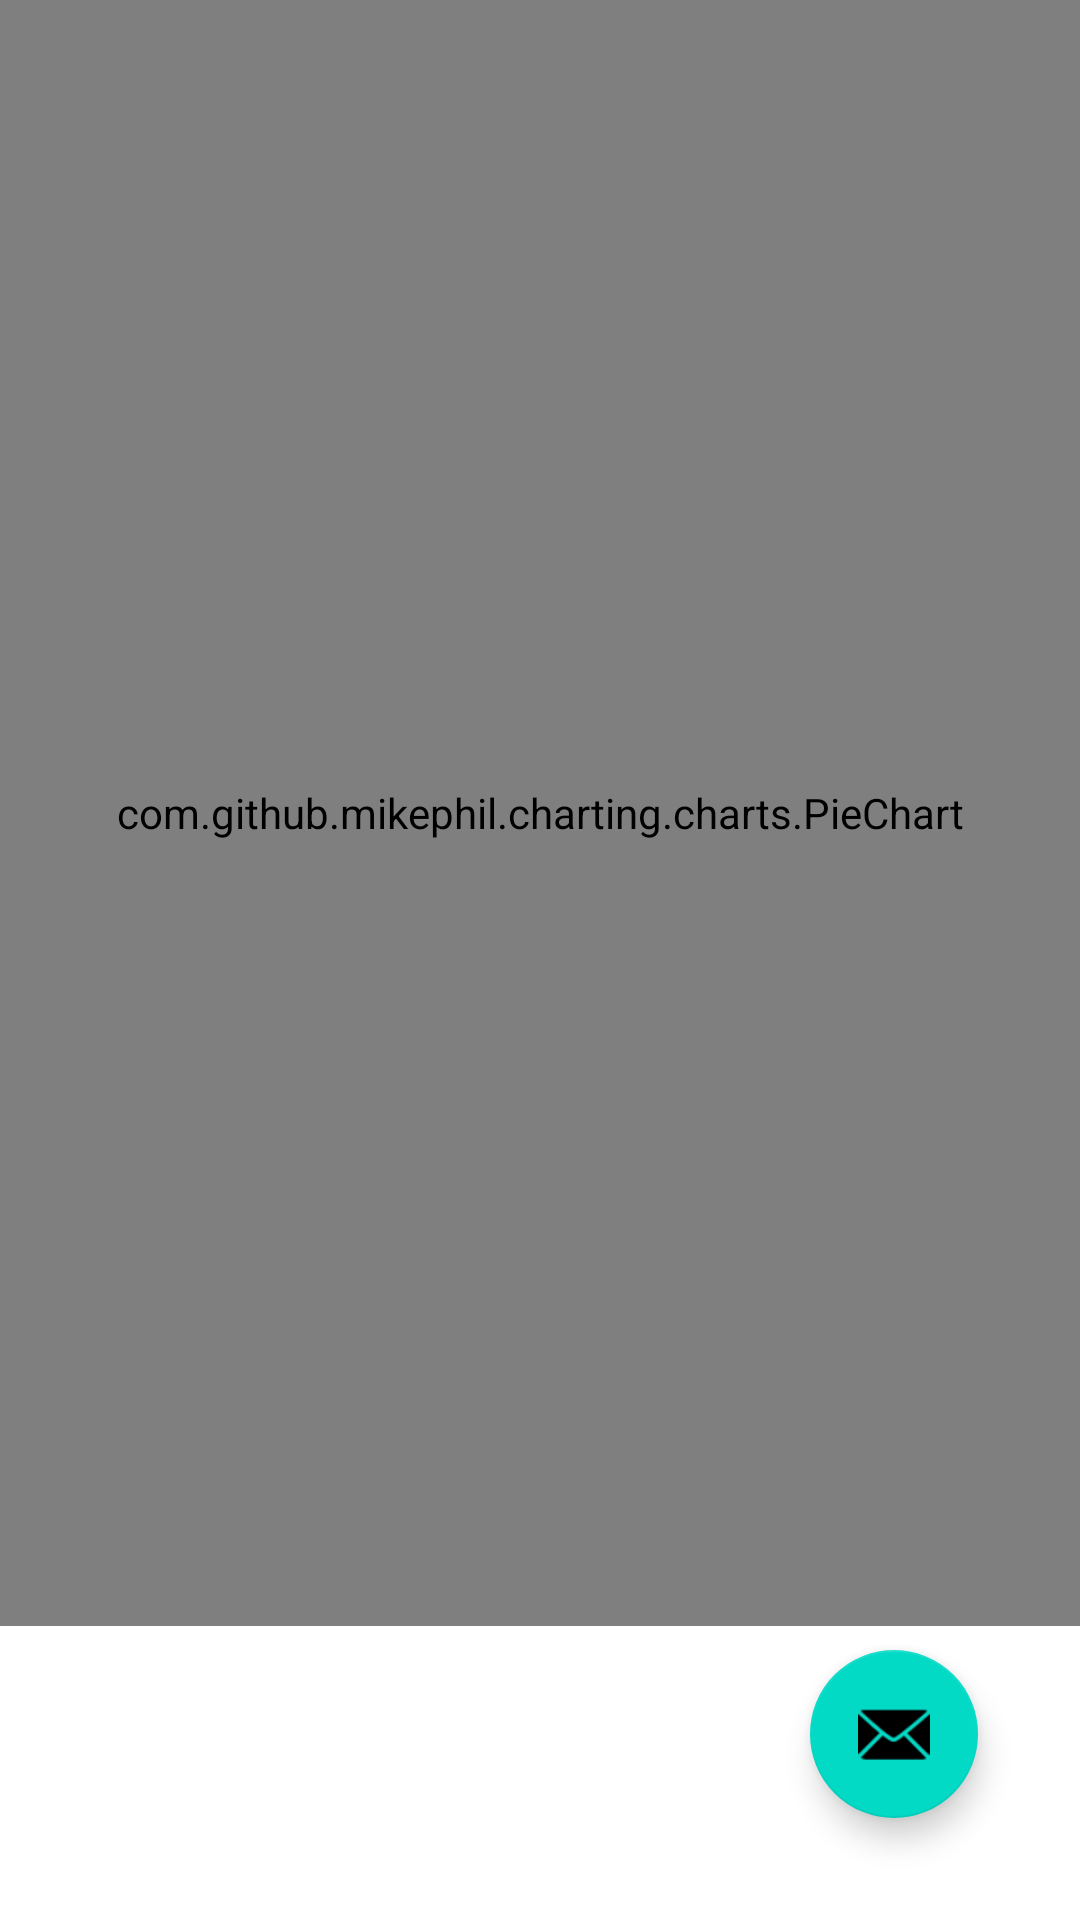

Screen size 1080 x 1920. Icon name, then its box in pixels as (x1, y1, x2, y2):
email: (810, 1650, 978, 1818)
